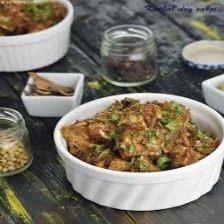sabzi: (0, 0, 69, 38)
